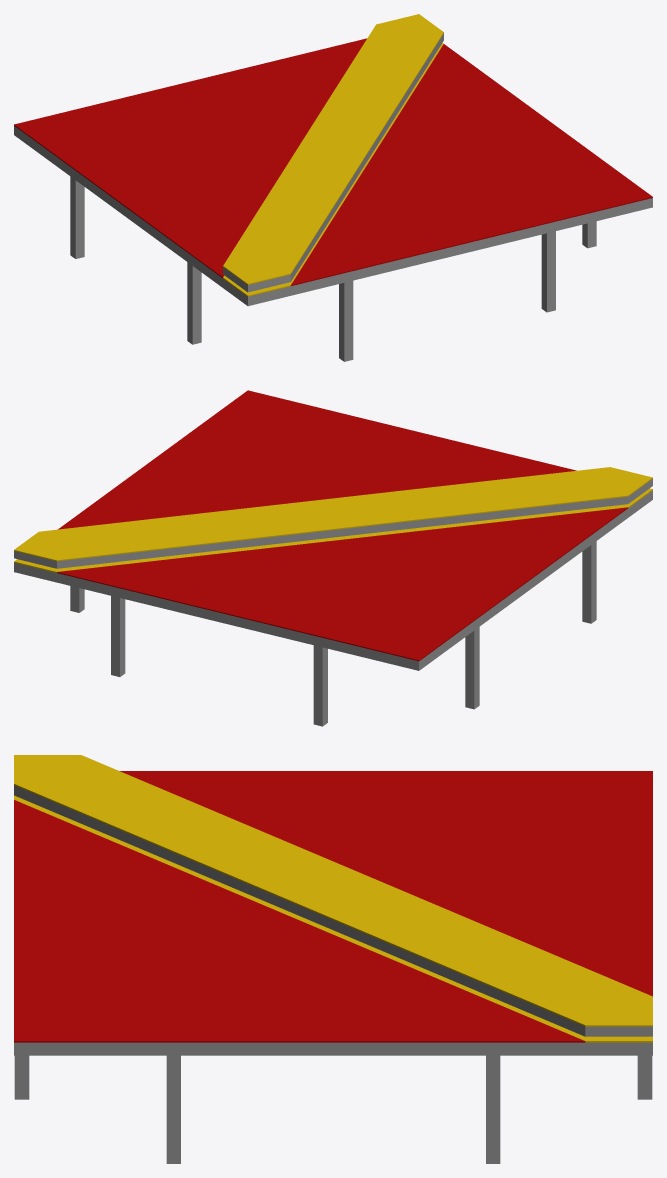
The model's file is ClosedSign.gltf.
3 renders of one model, top to bottom at view 1: azimuth 30°, elevation 25°; view 2: azimuth 150°, elevation 25°; view 3: azimuth 270°, elevation 25°, orthographic. The views are drawn at different scales.
Parts seen in each view (by area): view 1: Line005, Line004, Line003, Box009, Line006, Box007, Box008, Box003, Box004, Line002; view 2: Line004, Line005, Line003, Box009, Line006, Line002, Box006, Box005, Box004, Box003; view 3: Line005, Line004, Line003, Box009, Line006, Line002, Box002, Box001, Box008, Box005.
Part boxes in pixels (<box>): Line005: <box>290,44,652,285</box>; Line004: <box>14,38,366,278</box>; Line003: <box>223,14,443,284</box>; Box009: <box>14,126,652,306</box>; Line006: <box>223,33,443,292</box>; Box007: <box>339,280,353,361</box>; Box008: <box>541,231,555,312</box>; Box003: <box>70,176,84,258</box>; Box004: <box>187,262,201,344</box>; Line002: <box>223,43,443,296</box>; Line004: <box>57,507,628,661</box>; Line005: <box>58,390,576,529</box>; Line003: <box>14,467,652,561</box>; Box009: <box>14,490,652,670</box>; Line006: <box>14,479,652,568</box>; Line002: <box>14,488,652,572</box>; Box006: <box>313,645,327,726</box>; Box005: <box>111,596,125,676</box>; Box004: <box>582,541,596,623</box>; Box003: <box>465,627,479,709</box>; Line005: <box>14,800,585,1042</box>; Line004: <box>120,771,652,996</box>; Line003: <box>14,755,652,1026</box>; Box009: <box>14,1042,652,1055</box>; Line006: <box>14,785,652,1036</box>; Line002: <box>14,795,652,1042</box>; Box002: <box>166,1055,180,1163</box>; Box001: <box>486,1055,500,1163</box>; Box008: <box>14,1055,29,1099</box>; Box005: <box>637,1055,652,1099</box>.
Size of the model in its own units: 4 by 0.96 by 4.
